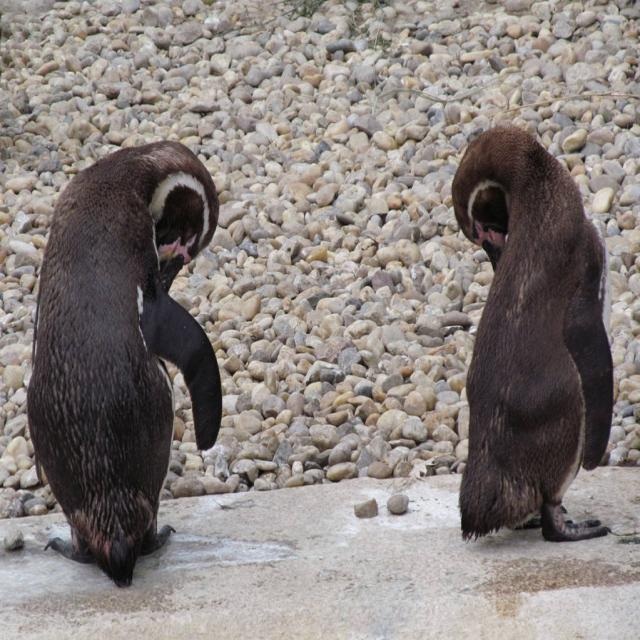Penguins: (19, 132, 225, 588), (443, 108, 624, 555)
